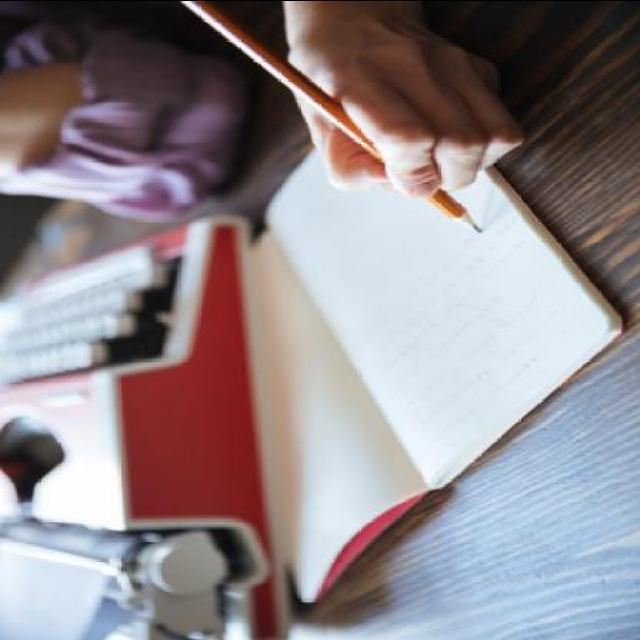Pencil: (444, 203, 486, 240)
